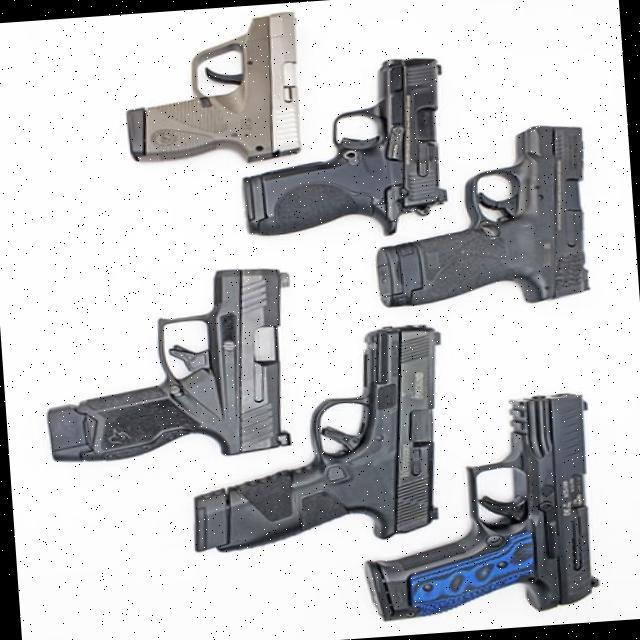Handgun: (179, 319, 450, 556), (356, 390, 598, 622), (35, 262, 298, 470), (366, 122, 590, 314), (233, 51, 449, 242), (120, 7, 304, 169)
